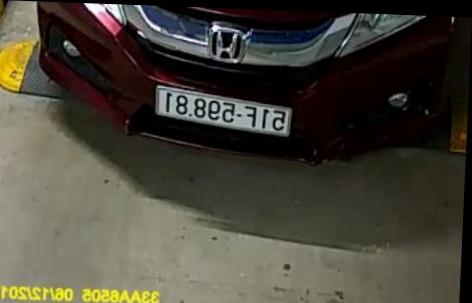License_Plate: (147, 84, 297, 138)
